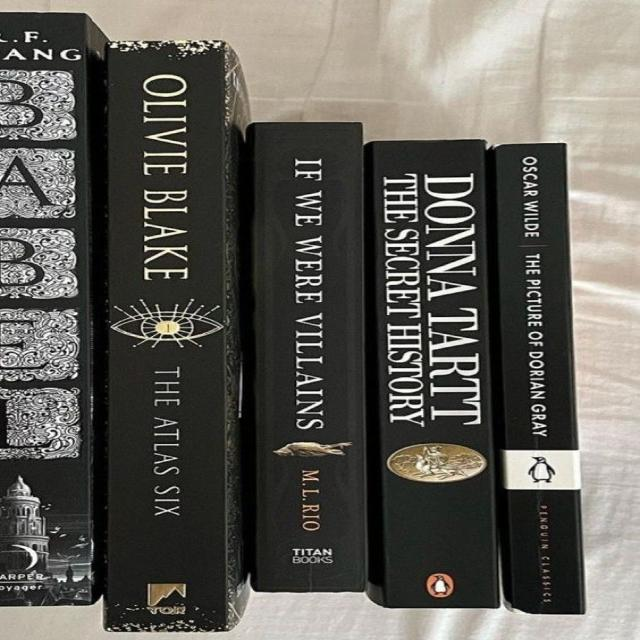book: (103, 41, 247, 631), (0, 13, 106, 605), (365, 140, 498, 608), (249, 122, 365, 592), (490, 143, 584, 614)
